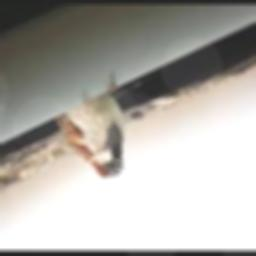Sparrow: (54, 77, 126, 177)
